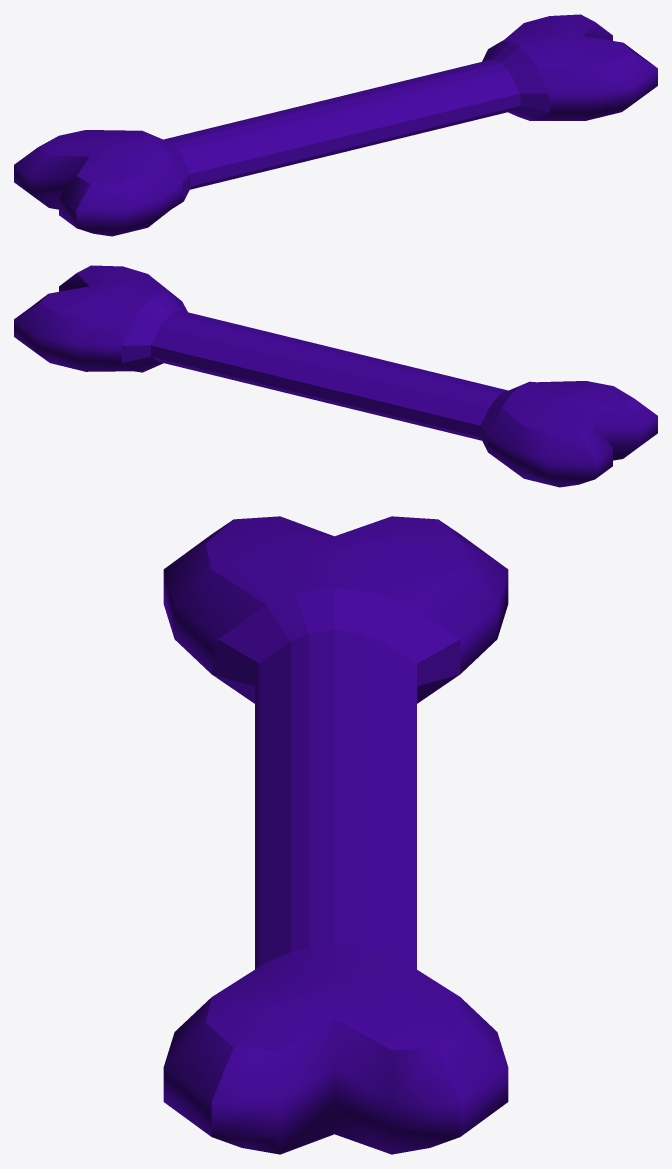
Rendered from BoneToy.fbx.
3 views of the same model, one above another, from view 1: azimuth 30°, elevation 25°; view 2: azimuth 150°, elevation 25°; view 3: azimuth 270°, elevation 25° (orthographic). The views are drawn at different scales.
Visible parts, largest first — view 1: pCube1; view 2: pCube1; view 3: pCube1.
Boxes of the visible parts, bbox=[...] form: pCube1: bbox=[14, 14, 657, 236]; pCube1: bbox=[14, 265, 657, 487]; pCube1: bbox=[163, 516, 508, 1154].
Bounding box in the file's own units: 45.49 × 5.24 × 11.67.
